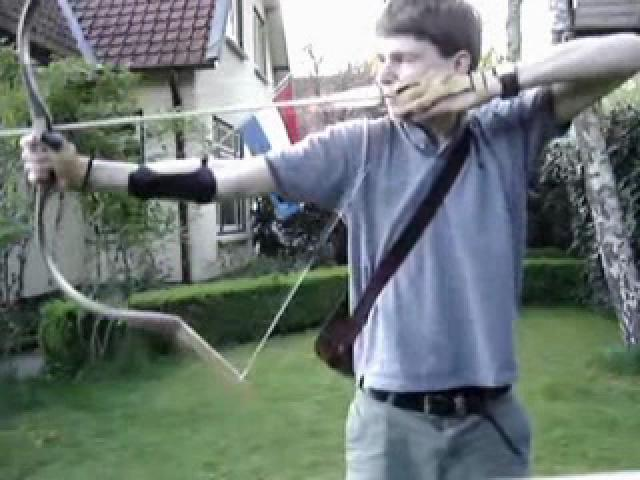P: (20, 9, 546, 476)
